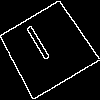I: (23, 23, 58, 70)
